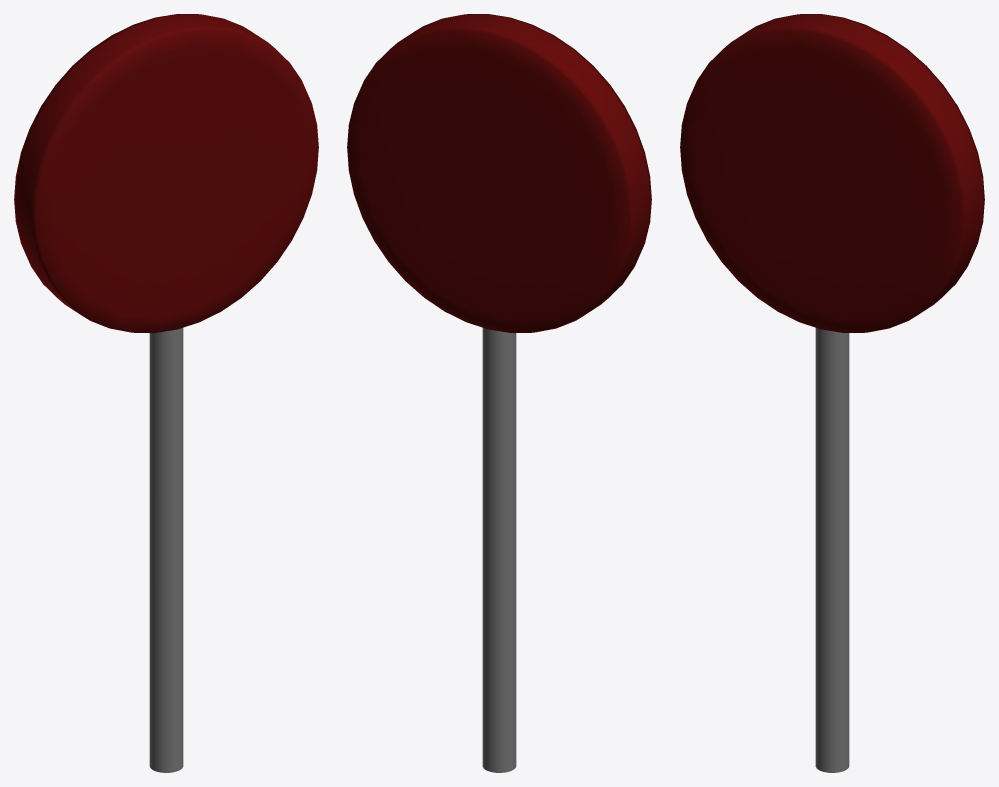
Rendered from lollipop 1.obj.
3 views of the same model, side by side, from view 1: azimuth 30°, elevation 25°; view 2: azimuth 150°, elevation 25°; view 3: azimuth 330°, elevation 25° (orthographic).
Visible parts, largest first — view 1: pCylinder15, pCylinder16; view 2: pCylinder15, pCylinder16; view 3: pCylinder15, pCylinder16.
Boxes of the visible parts, <box> form: pCylinder15: <box>14,14,318,332</box>; pCylinder16: <box>149,328,183,772</box>; pCylinder15: <box>347,14,651,332</box>; pCylinder16: <box>482,328,516,772</box>; pCylinder15: <box>680,14,984,332</box>; pCylinder16: <box>815,328,849,772</box>.
Bounding box in the file's own units: 2.61 × 6.45 × 0.3952.
